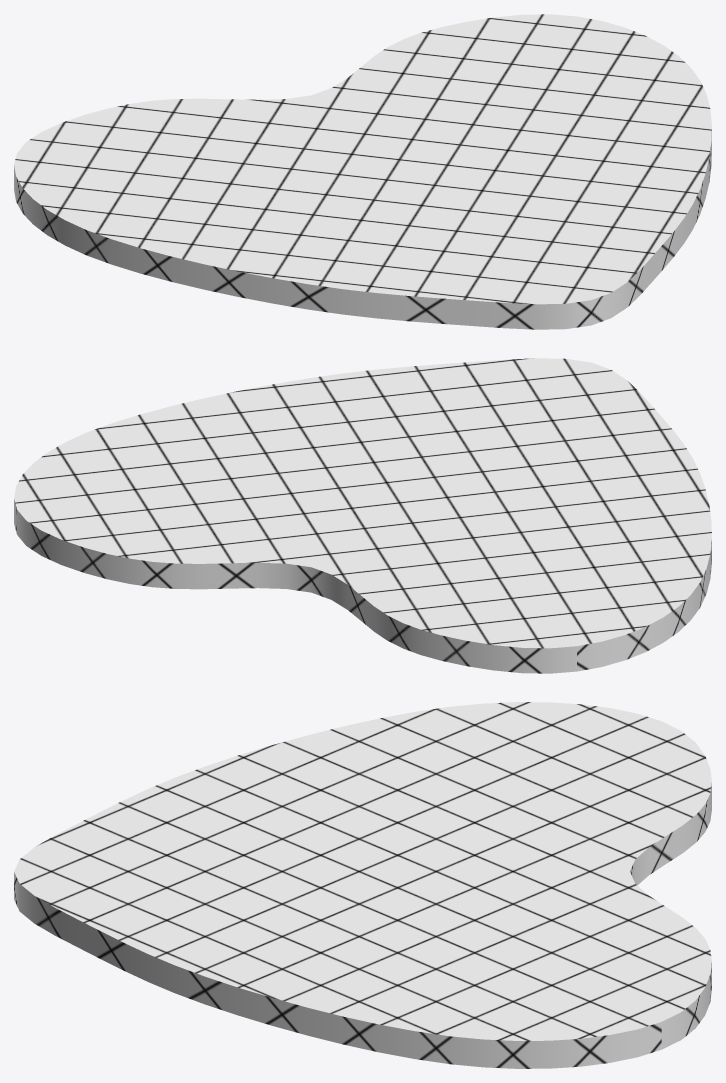
Rendered from Heart.obj.
3 views of the same model, one above another, from view 1: azimuth 30°, elevation 25°; view 2: azimuth 150°, elevation 25°; view 3: azimuth 270°, elevation 25° (orthographic). The views are drawn at different scales.
Parts seen in each view (by area): view 1: Plane; view 2: Plane; view 3: Plane.
Part boxes in pixels (x1,y1,x2,y2): Plane: (14, 14, 711, 329); Plane: (14, 358, 711, 673); Plane: (14, 702, 711, 1068).
Bounding box in the file's own units: 2.6 × 0.1 × 2.27.
